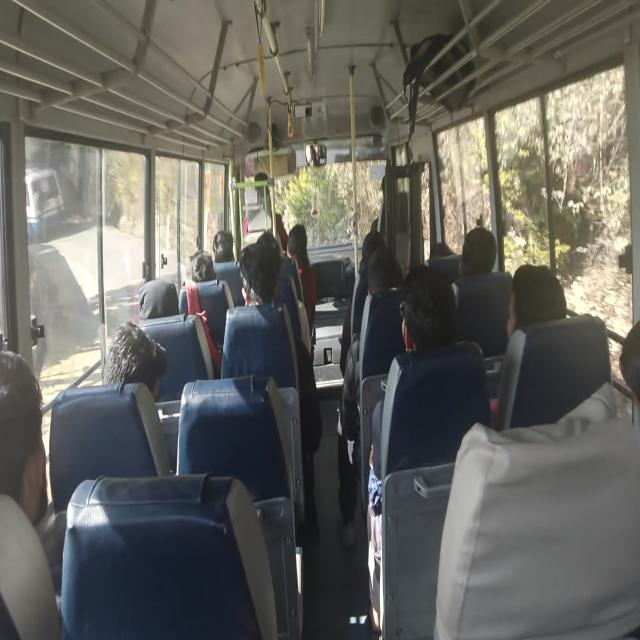person: (0, 342, 53, 566), (71, 347, 159, 423), (597, 312, 640, 462), (397, 288, 475, 357), (368, 253, 425, 332), (503, 278, 553, 356), (457, 232, 505, 295), (236, 246, 282, 295), (134, 268, 172, 314), (187, 246, 221, 292), (425, 237, 456, 276), (287, 221, 313, 262), (357, 218, 379, 256), (214, 228, 234, 258), (263, 229, 282, 256)
